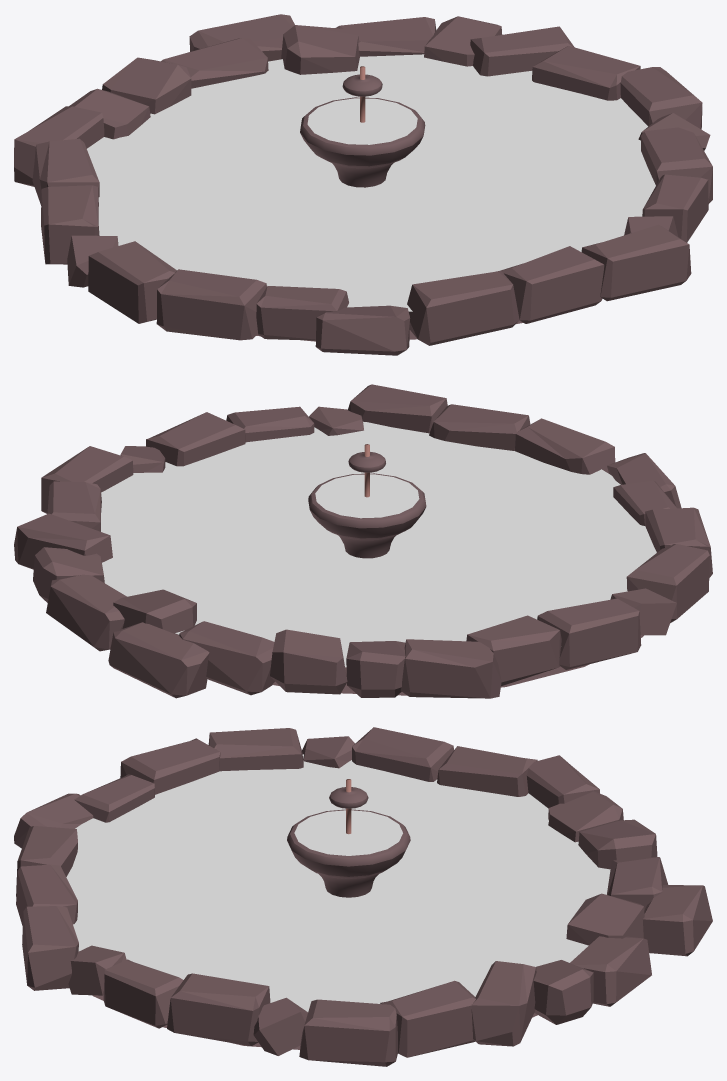
Rendered from Pool.fbx.
3 renders of one model, top to bottom at view 1: azimuth 30°, elevation 25°; view 2: azimuth 150°, elevation 25°; view 3: azimuth 270°, elevation 25°, orthographic. The views are drawn at different scales.
Visible parts, largest first — view 1: Water Big, Pool, Water small; view 2: Water Big, Pool, Water small; view 3: Water Big, Pool, Water small.
Part boxes in pixels (x1=…): Water Big: x1=87, y1=54, x2=655, y2=311; Pool: x1=14, y1=14, x2=712, y2=355; Water small: x1=307, y1=98, x2=417, y2=144; Water Big: x1=101, y1=421, x2=656, y2=667; Pool: x1=14, y1=384, x2=712, y2=698; Water small: x1=315, y1=474, x2=419, y2=518; Water Big: x1=66, y1=754, x2=610, y2=1011; Pool: x1=14, y1=727, x2=712, y2=1066; Water small: x1=294, y1=810, x2=402, y2=855.
Bounding box in the file's own units: 9.42 × 2.02 × 9.19.
